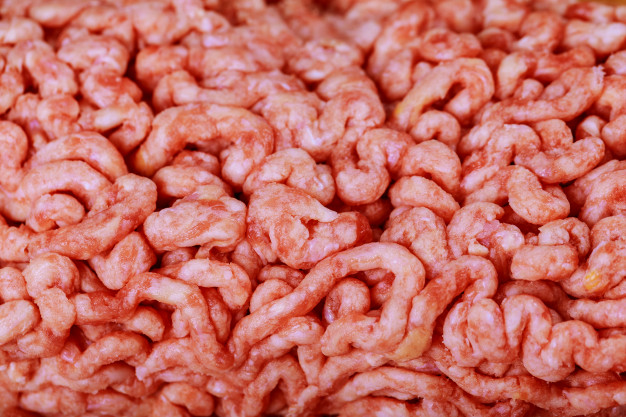ground_beef: (3, 3, 341, 306), (350, 57, 626, 364)
